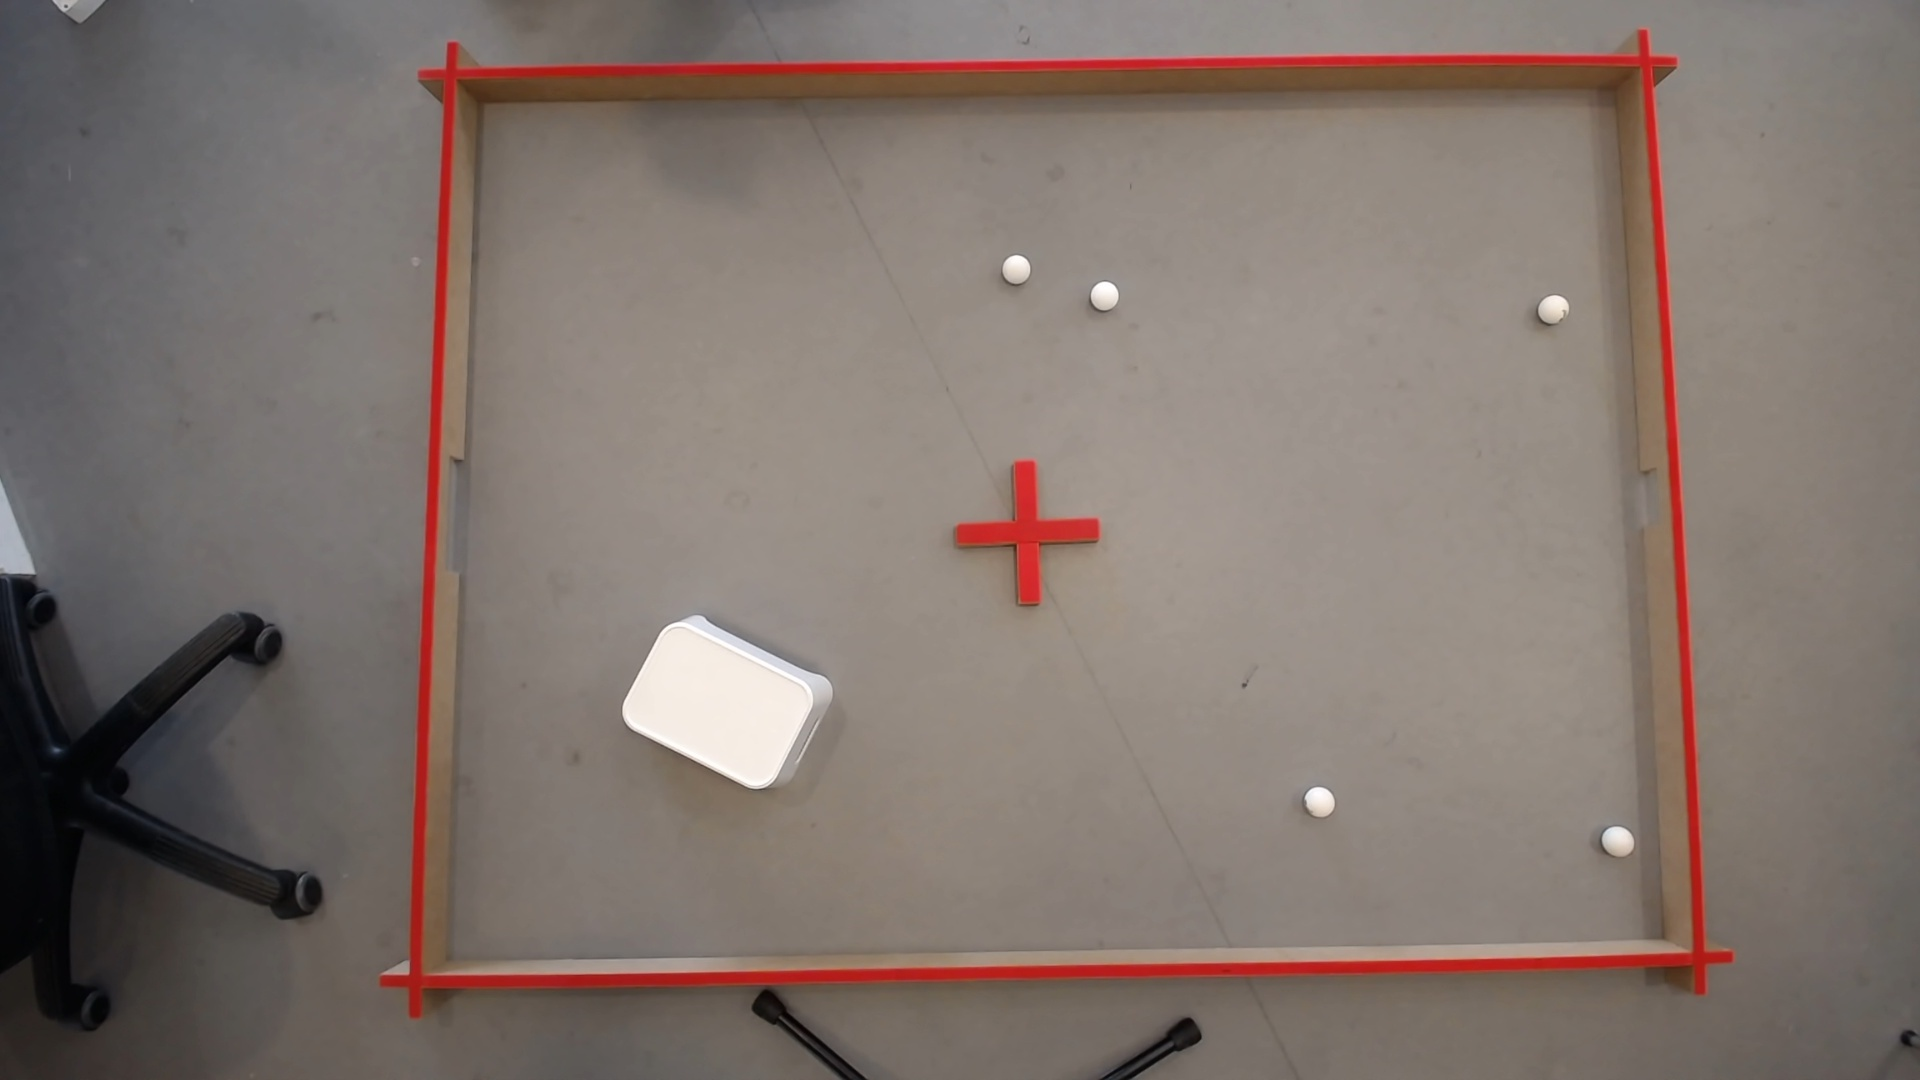balls: (613, 601, 831, 799), (1300, 781, 1338, 818), (1085, 276, 1124, 313), (1535, 287, 1572, 324), (1598, 820, 1638, 855)
car: (998, 249, 1034, 284)
